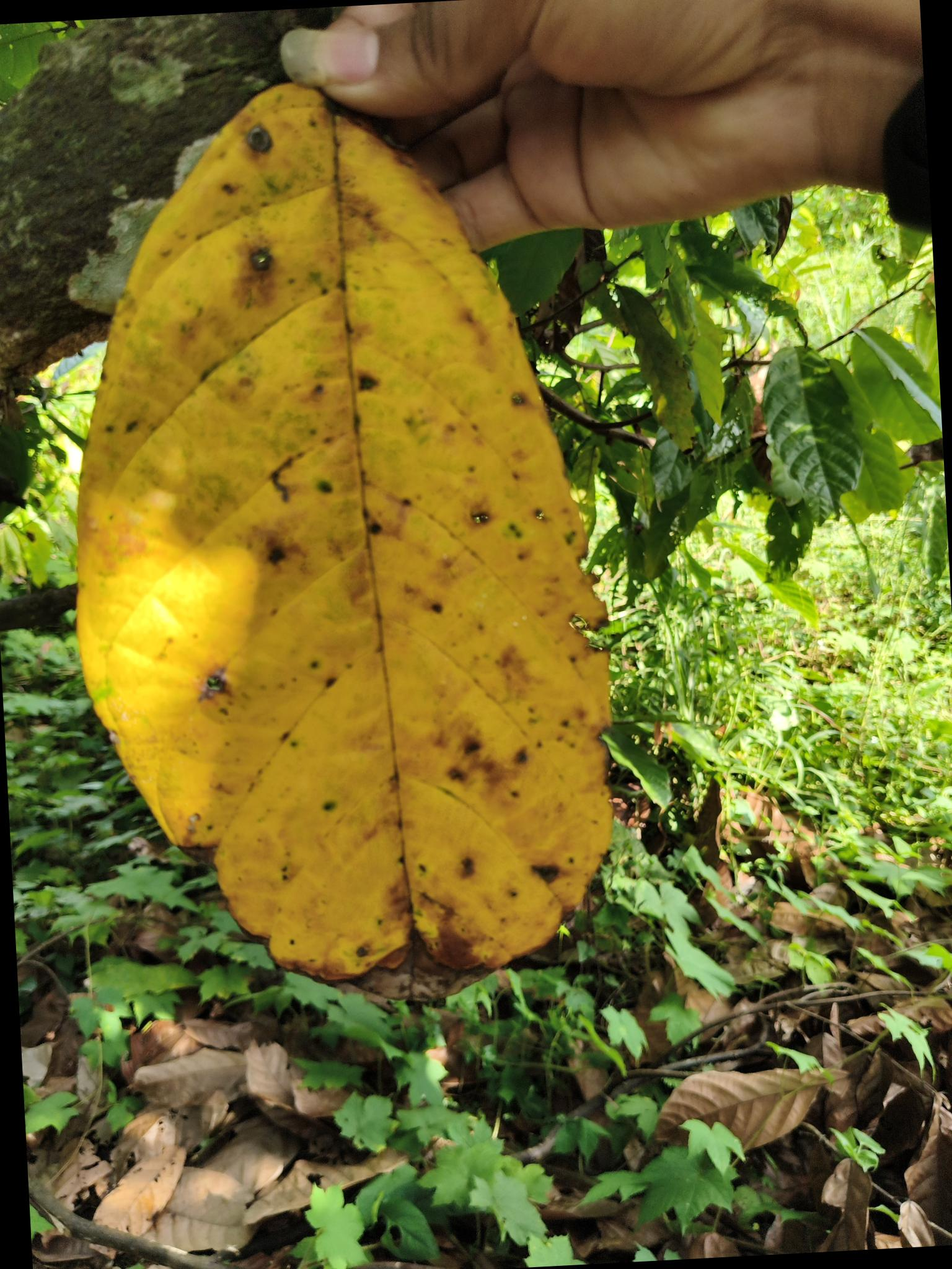Fosforo: (76, 78, 622, 983)
